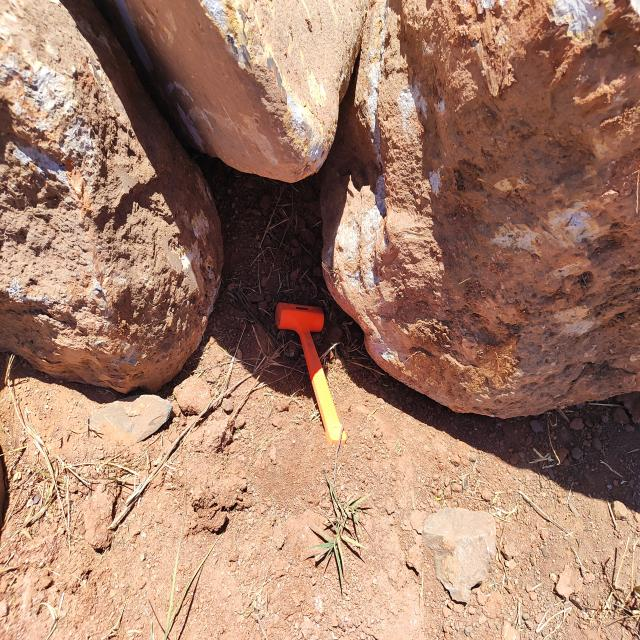Orange_hammer: (274, 301, 347, 445)
